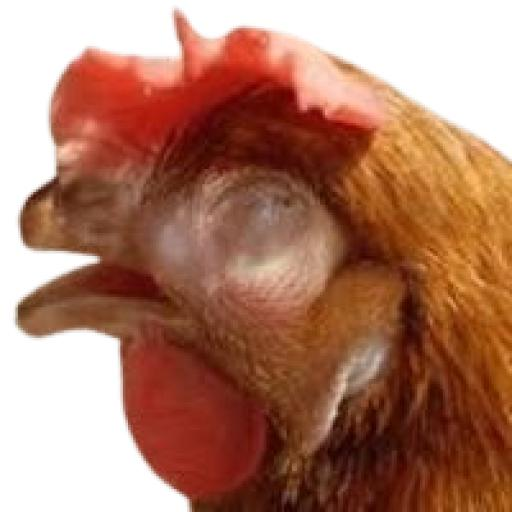disease: (162, 177, 330, 318)
